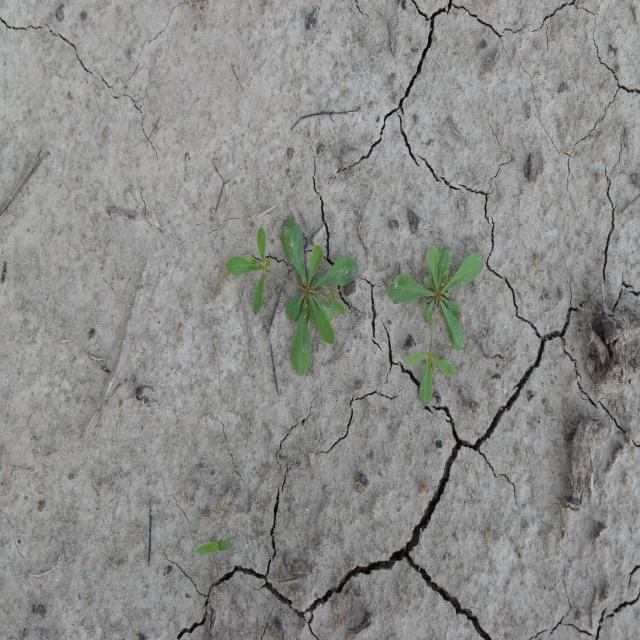Carpetweed: (222, 216, 360, 378), (384, 240, 485, 409)
